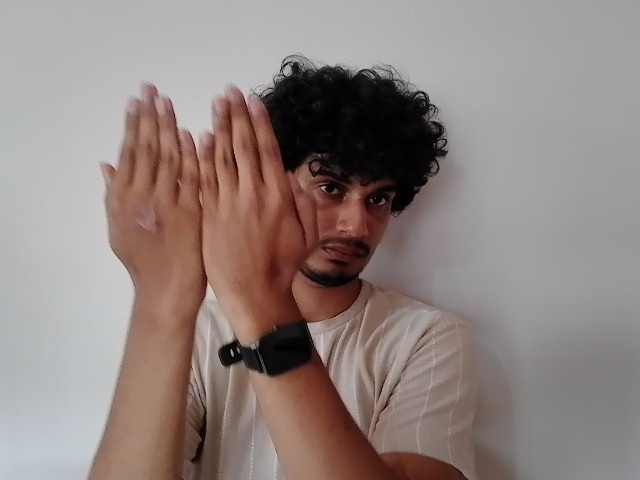school: (105, 83, 326, 313)
